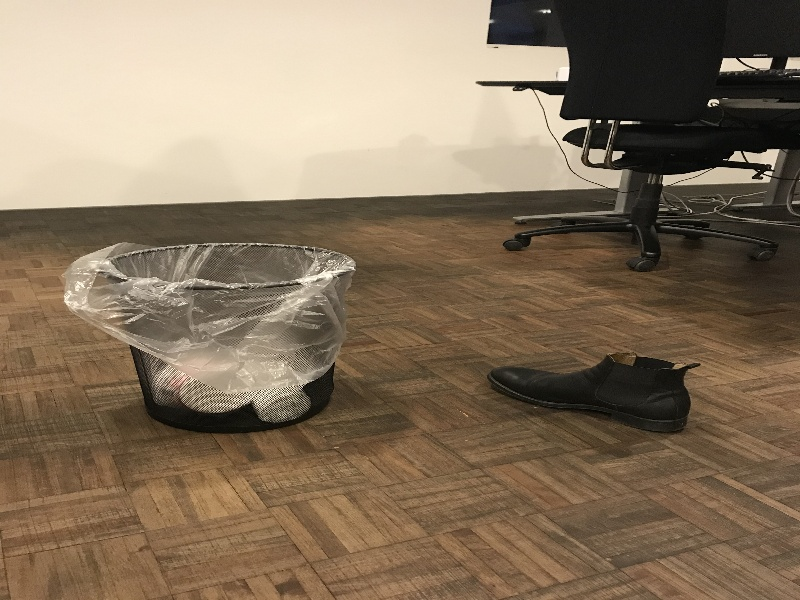bin: (107, 239, 357, 440)
chair: (519, 2, 765, 279)
shoe: (482, 329, 708, 443)
